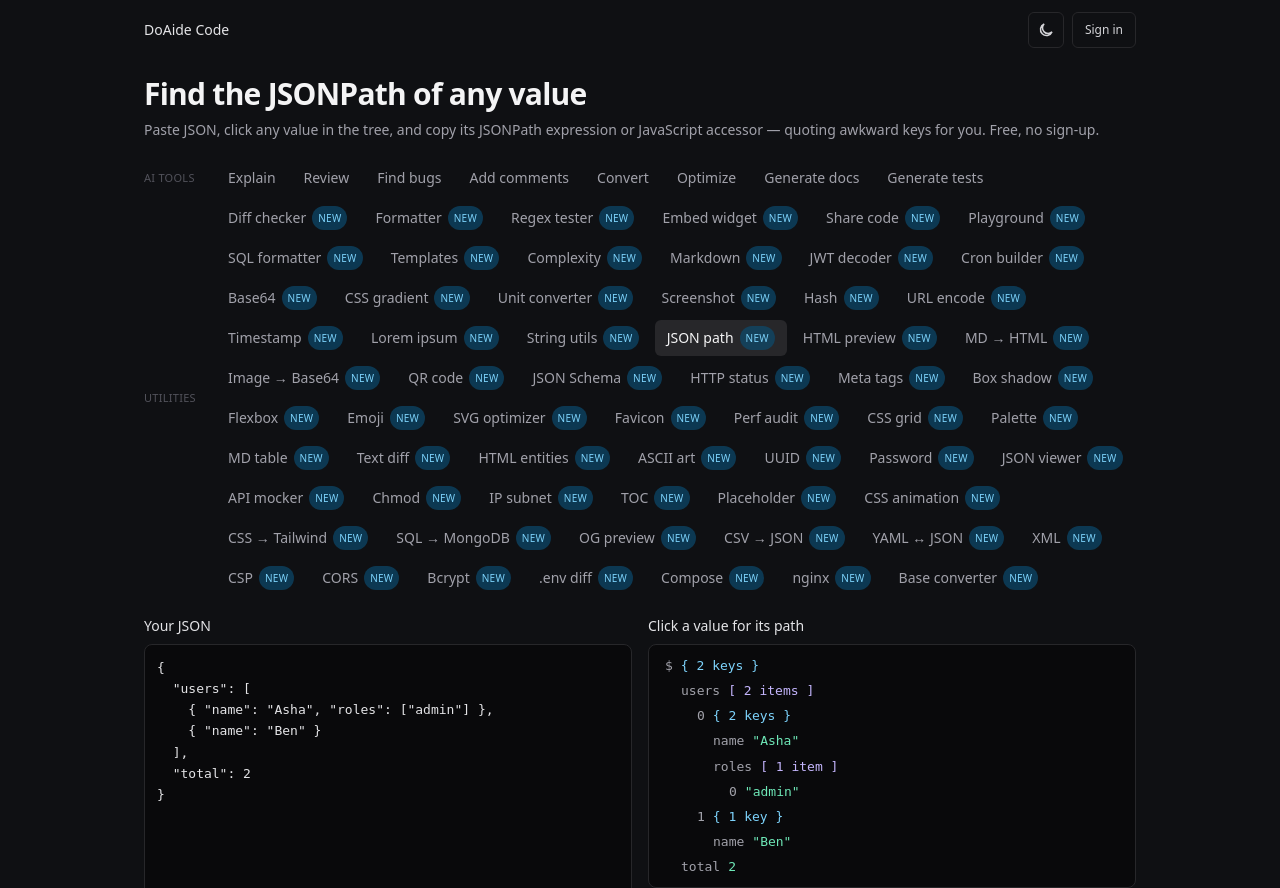
JsonPathPage › shows the sample tree and gives a path on click
The width and height of the screenshot is (1280, 888).
Expected: the heading reads "Find the JSONPath of any value", [144,73,587,114]
Click the button with test id "jp-node-3". click: x=729, y=741
box: [657,728,1127,754]
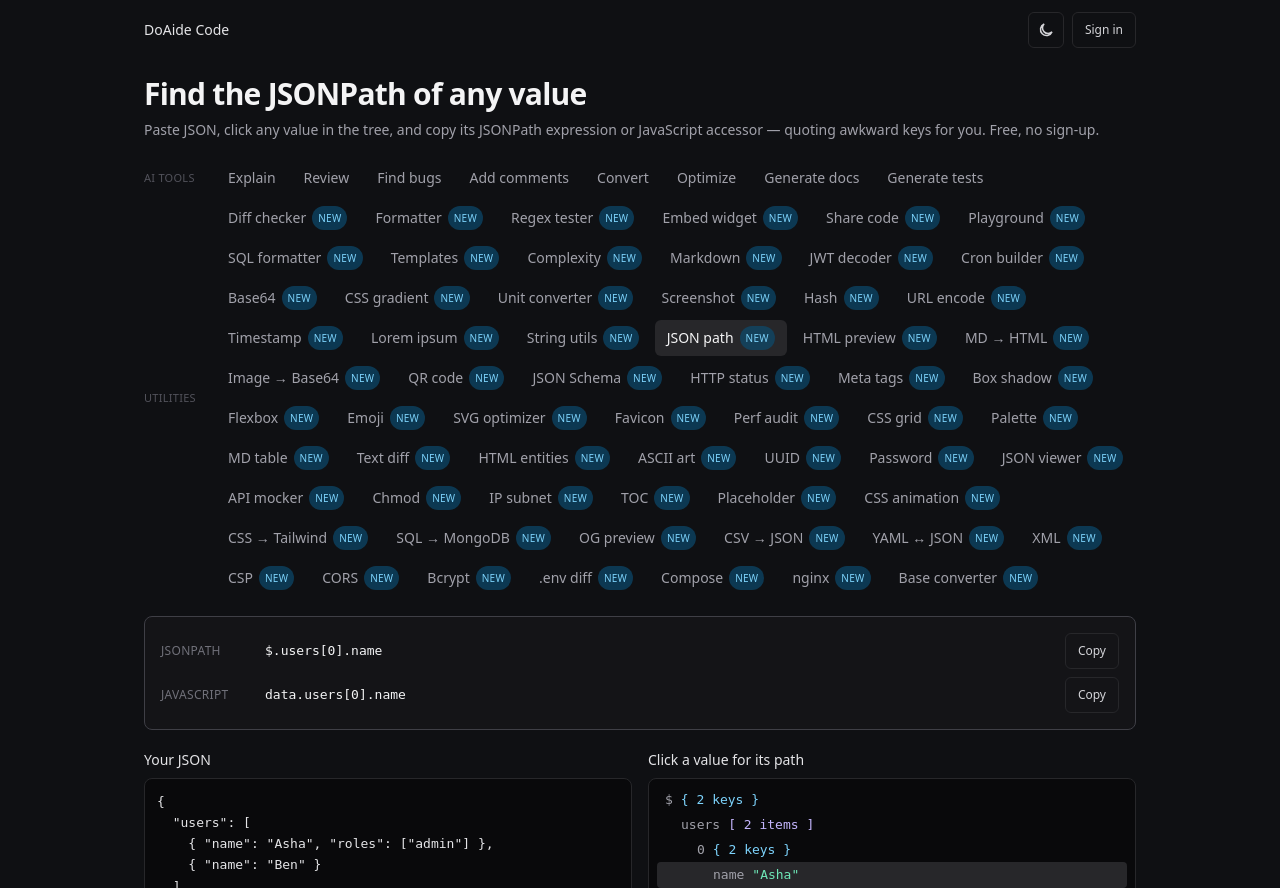
Now the text with test id "jp-jsonpath" reads "$.users[0].name", box [265,643,382,658]
Now the text with test id "jp-js" reads "data.users[0].name", box [265,687,406,702]
